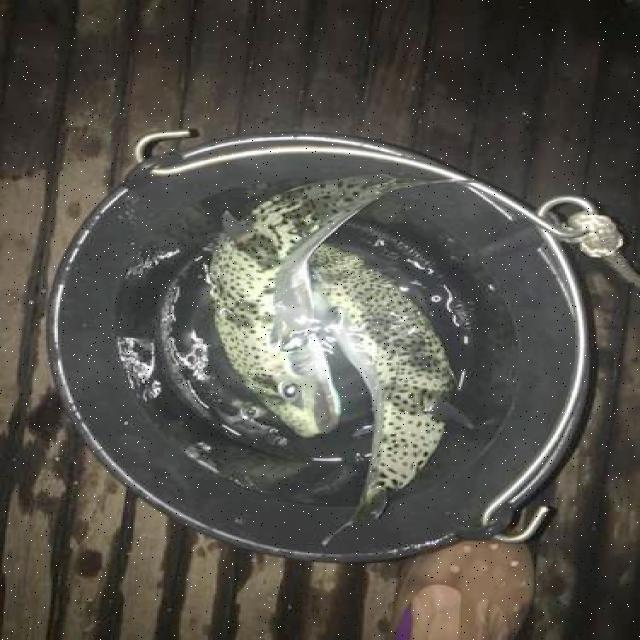Balik: (210, 176, 414, 436), (311, 246, 453, 526)
